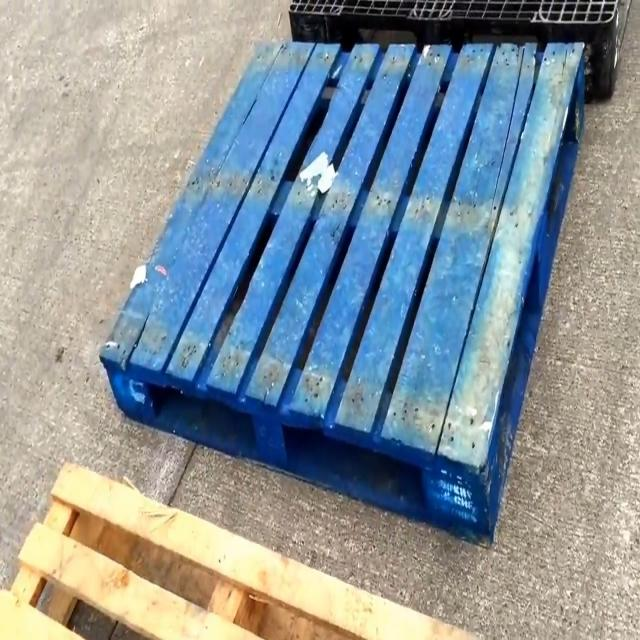Chariot elevateur: (0, 454, 516, 639)
Palette: (88, 19, 592, 540), (286, 0, 640, 107)
